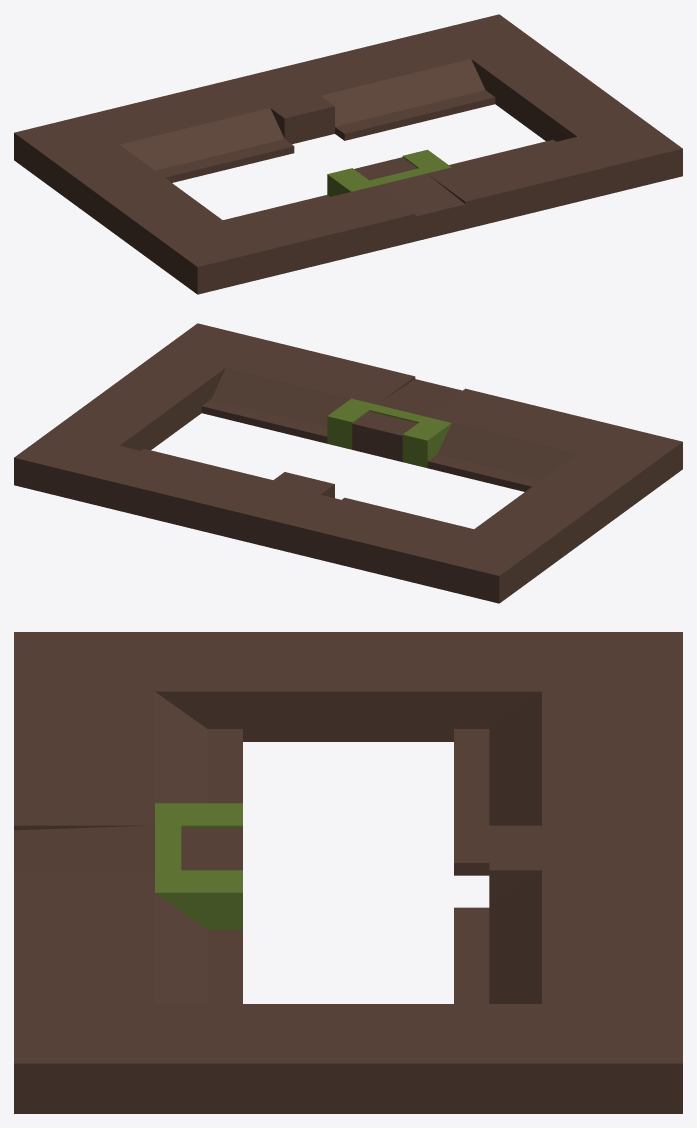
File: 231110AC11-Institute-Var-2-IFC_IfcSite.dae
3 views of the same model, one above another, from view 1: azimuth 30°, elevation 25°; view 2: azimuth 150°, elevation 25°; view 3: azimuth 270°, elevation 25° (orthographic). The views are drawn at different scales.
Visible parts, largest first — view 1: 1b0aQcLSb6KP4cEKR_kZZp; view 2: 1b0aQcLSb6KP4cEKR_kZZp; view 3: 1b0aQcLSb6KP4cEKR_kZZp.
Part boxes in pixels (<box>): 1b0aQcLSb6KP4cEKR_kZZp: <box>14,14,682,294</box>; 1b0aQcLSb6KP4cEKR_kZZp: <box>14,323,682,603</box>; 1b0aQcLSb6KP4cEKR_kZZp: <box>14,632,682,1113</box>.
Size of the model in its own units: 58 by 38 by 3.15.
